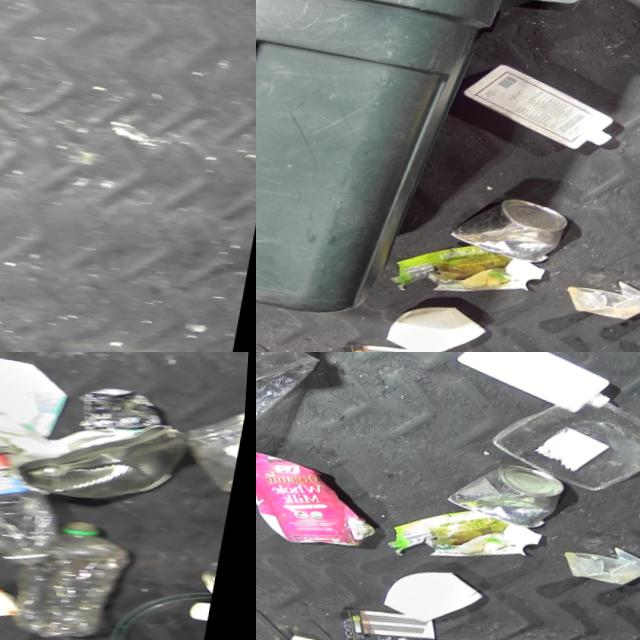can: (16, 404, 194, 510), (446, 455, 570, 530), (450, 190, 573, 265), (79, 382, 168, 437)
milk_jug: (455, 58, 630, 153), (452, 352, 626, 418)
plastic_bottle: (13, 511, 140, 640), (0, 424, 74, 568)
